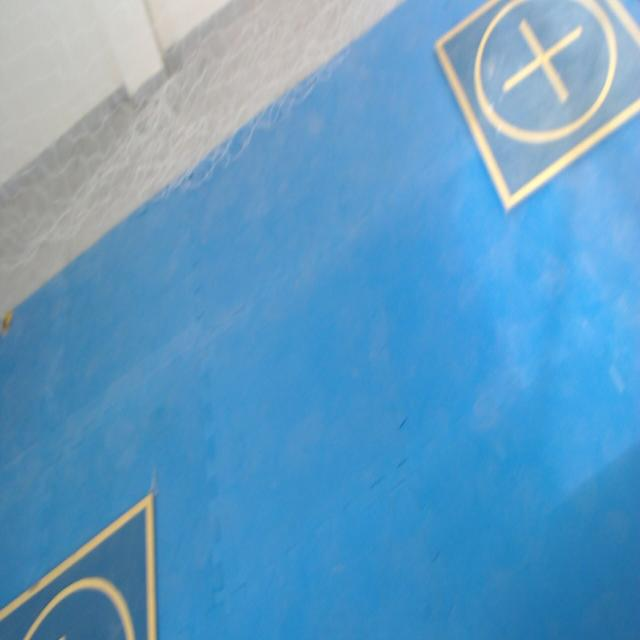base_pouso: (431, 0, 640, 213), (0, 494, 156, 639)
